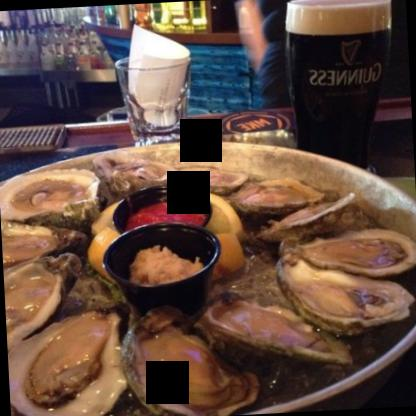oyster: (116, 307, 254, 415), (6, 308, 133, 415), (212, 293, 358, 372), (280, 250, 415, 330), (3, 245, 82, 357), (284, 225, 415, 286), (0, 160, 102, 224)
